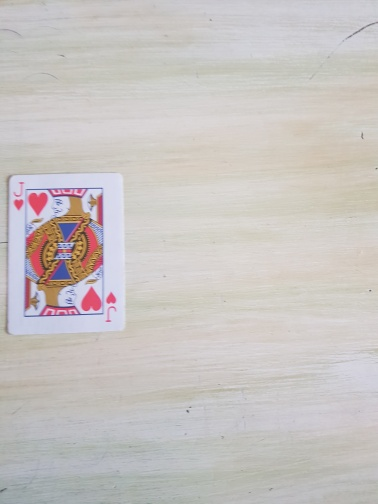jack: (5, 172, 127, 337)
